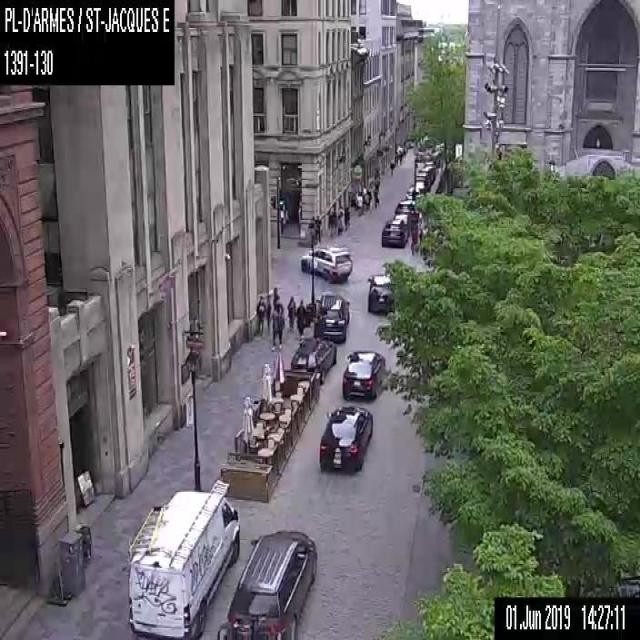pedestrian: (270, 302, 284, 351), (255, 295, 265, 334), (286, 295, 296, 328), (296, 297, 304, 336), (264, 294, 271, 332), (307, 214, 314, 248), (314, 215, 321, 242), (343, 206, 350, 231), (272, 286, 279, 306), (388, 160, 394, 175)
vehicle: (127, 476, 240, 639), (216, 530, 316, 638), (318, 405, 372, 475), (289, 338, 336, 383), (342, 349, 384, 399), (300, 242, 352, 281), (313, 292, 349, 342), (366, 272, 394, 314), (380, 218, 408, 247), (393, 200, 415, 229), (392, 213, 409, 235), (416, 172, 430, 190), (404, 186, 418, 200), (415, 180, 425, 195)
